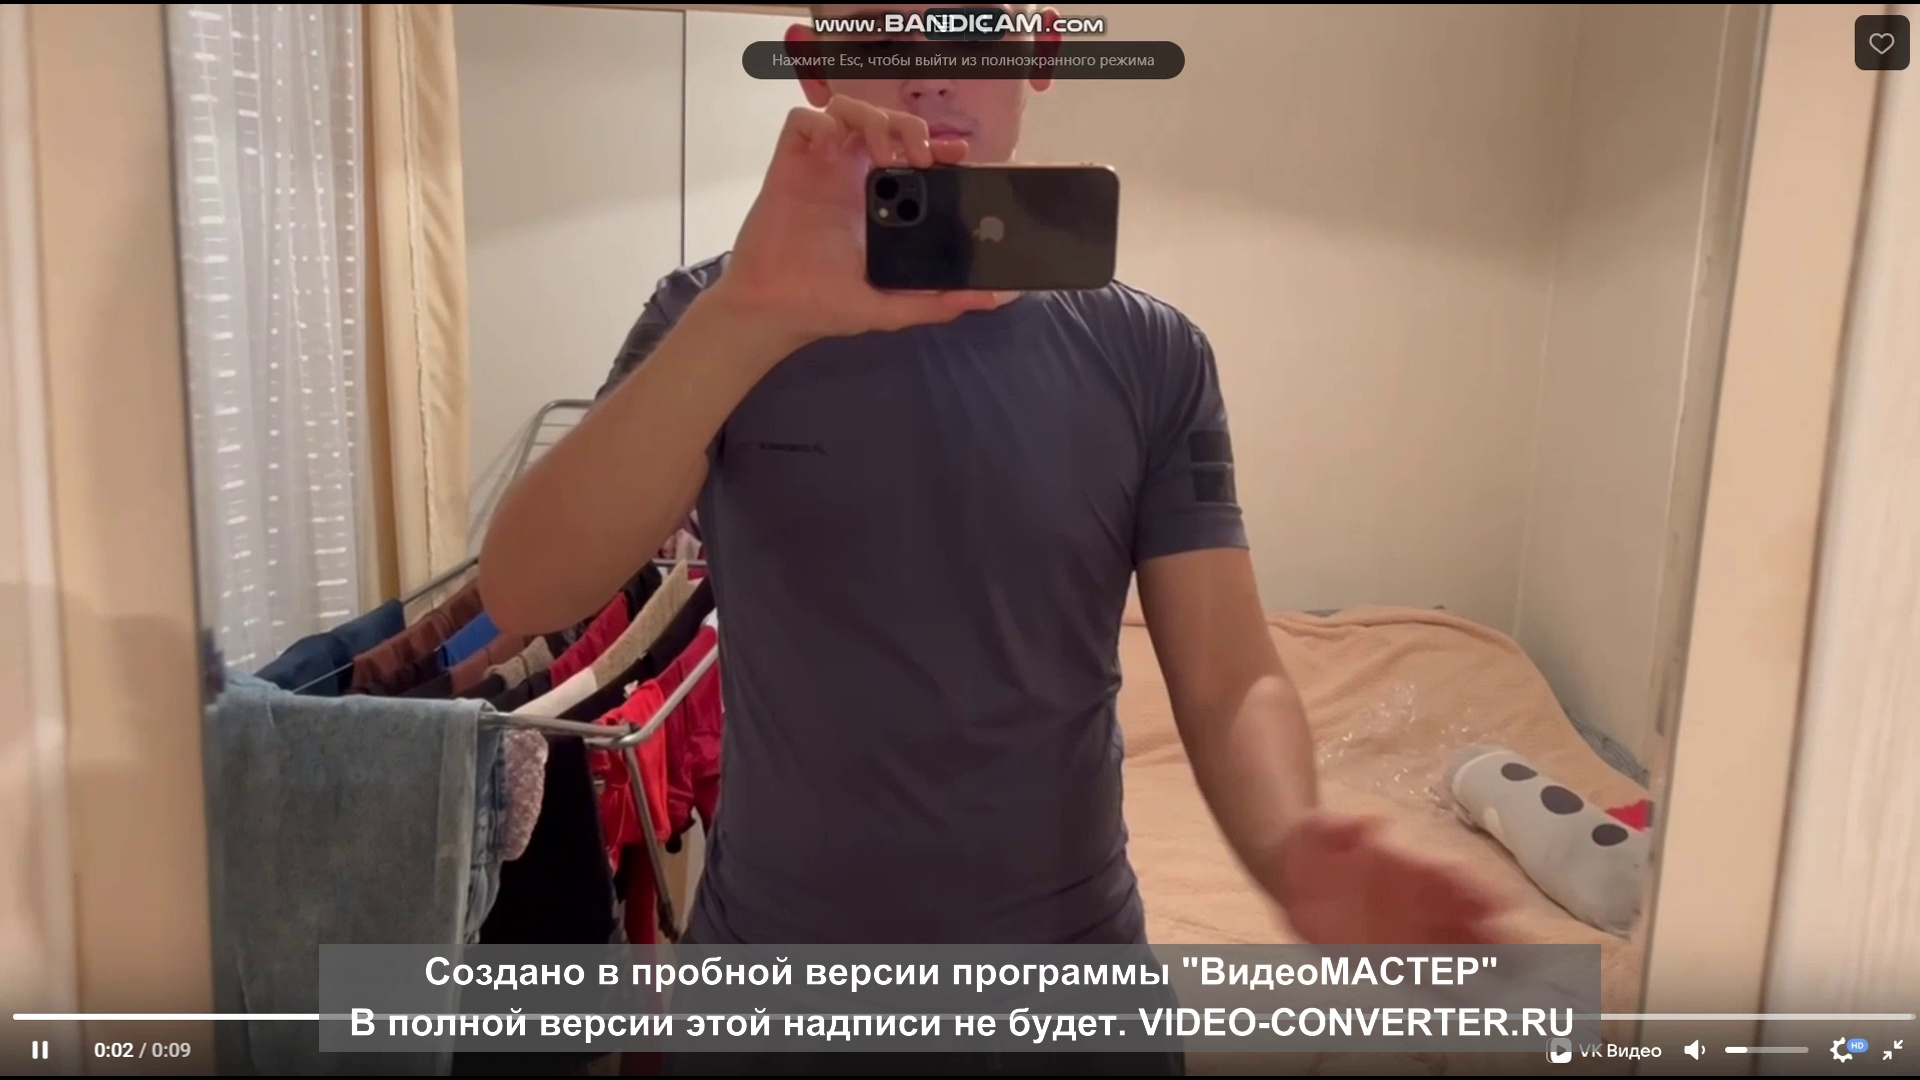Ладонь: (1275, 806, 1528, 947)
